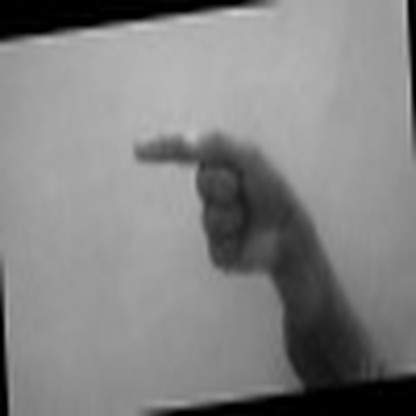g: (126, 108, 311, 283)
